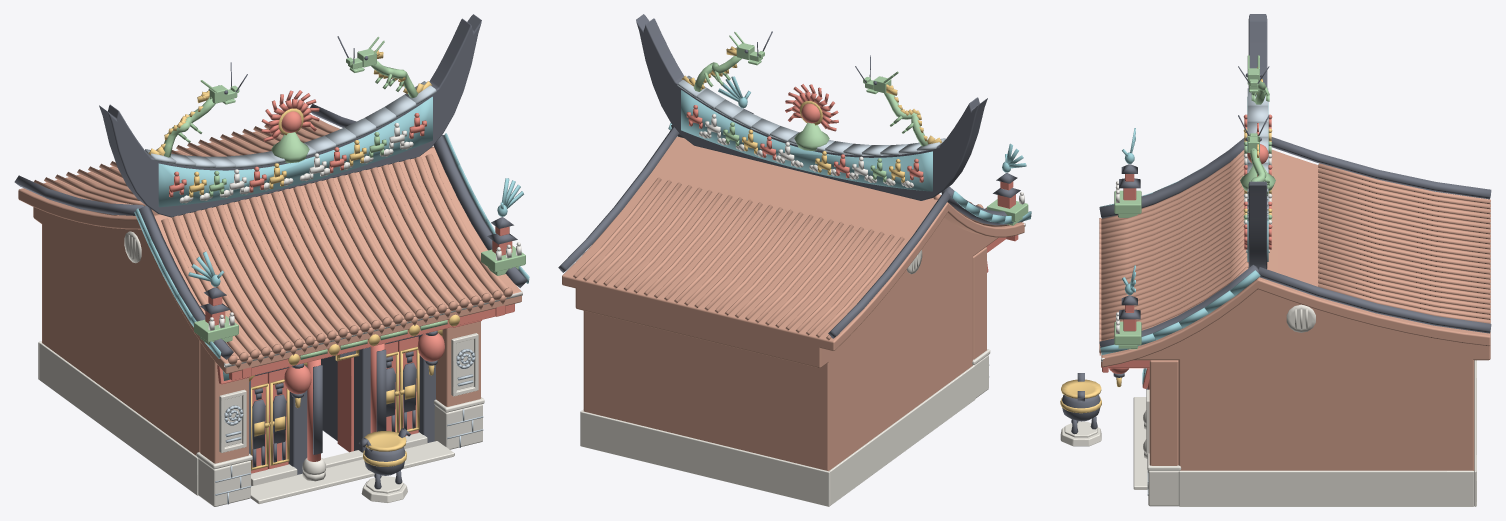
The model's file is temple.glb.
The picture shows the model from 3 angles, left to right: view 1: azimuth 30°, elevation 25°; view 2: azimuth 150°, elevation 25°; view 3: azimuth 270°, elevation 25°; orthographic projection. The views are drawn at different scales.
Parts seen in each view (by area): view 1: main; view 2: main; view 3: main.
Part boxes in pixels (<box>): main: <box>14,14,529,506</box>; main: <box>558,14,1031,506</box>; main: <box>1060,14,1491,506</box>.
Bounding box in the file's own units: 11.22 × 10.85 × 11.95.
